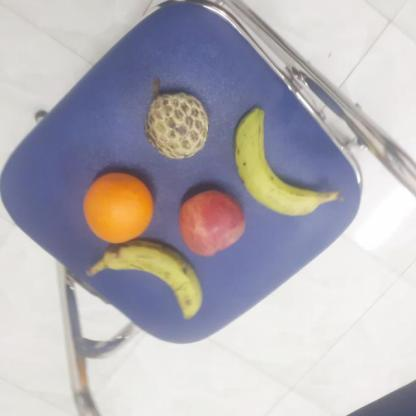annona: (142, 90, 210, 162)
banana: (231, 105, 327, 220), (101, 239, 207, 325), (176, 188, 248, 260)
orange: (82, 170, 154, 245)
